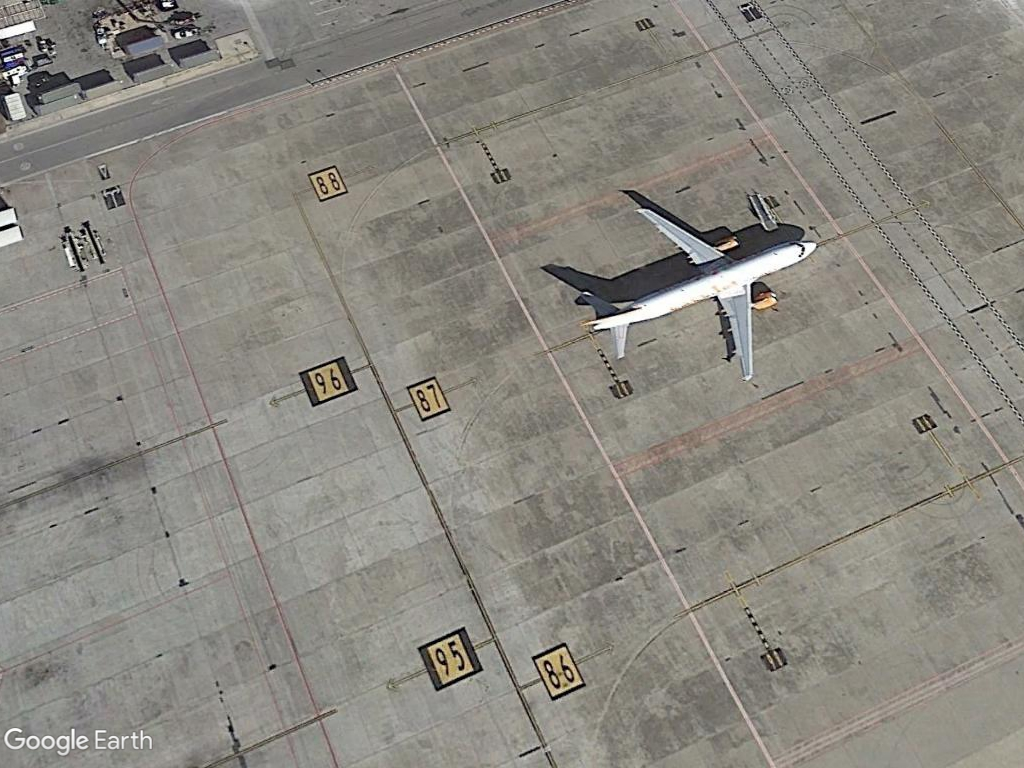airliner: (575, 206, 820, 392)
stairtruck: (740, 186, 786, 233)
